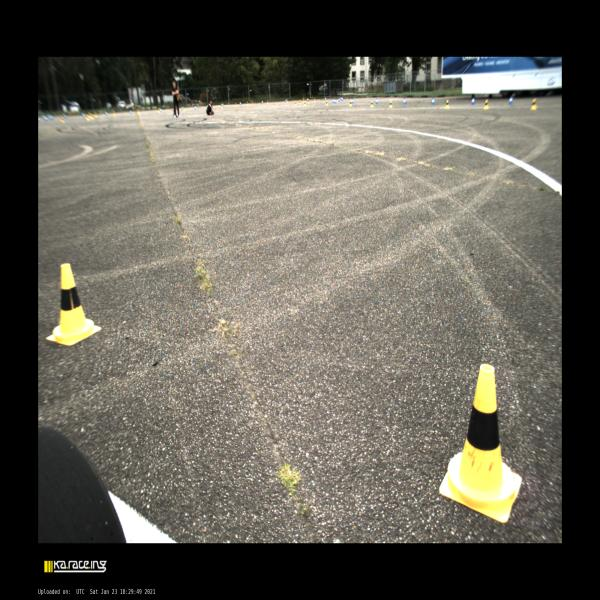blue_cone: (508, 96, 513, 105), (472, 98, 476, 105), (431, 98, 435, 105), (403, 98, 406, 104), (334, 98, 337, 104), (351, 98, 354, 103), (105, 111, 108, 116), (376, 98, 378, 104), (341, 97, 344, 101), (129, 110, 132, 114), (332, 98, 334, 103), (338, 98, 340, 102), (181, 107, 183, 111), (160, 108, 162, 112), (262, 100, 263, 104), (325, 97, 326, 100), (240, 102, 241, 105), (195, 106, 196, 109)
yellow_cone: (439, 362, 522, 524), (47, 263, 101, 346), (530, 98, 537, 110), (483, 100, 489, 110), (445, 100, 450, 109), (389, 100, 393, 108), (370, 100, 374, 108), (112, 110, 116, 116), (349, 100, 352, 107), (183, 106, 185, 112), (298, 99, 300, 105), (314, 97, 316, 103), (158, 107, 160, 113), (326, 101, 328, 106), (235, 102, 237, 107), (304, 101, 306, 106), (137, 109, 139, 114), (221, 104, 223, 108), (286, 99, 288, 103), (308, 99, 310, 103), (247, 101, 248, 105), (267, 100, 268, 104), (295, 101, 296, 105)
